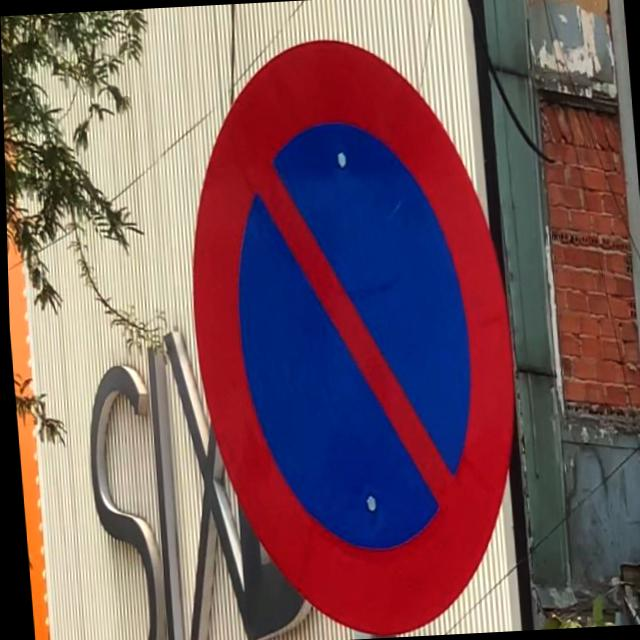Cam do xe: (170, 22, 531, 640)
